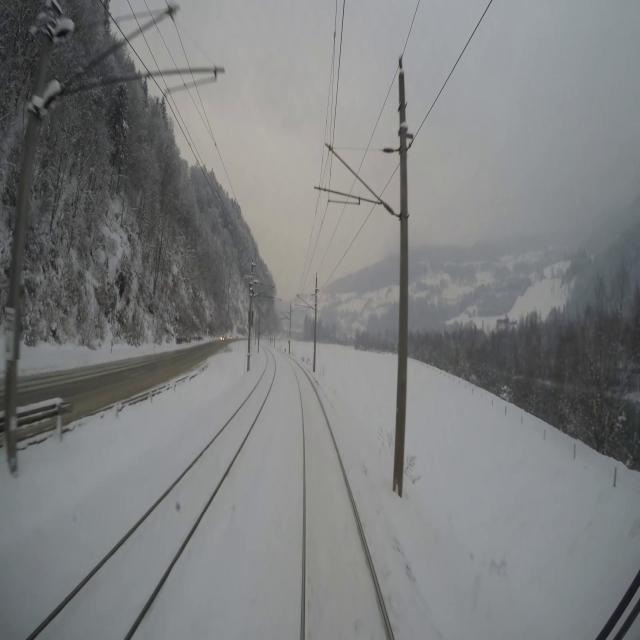rail-track: (34, 353, 273, 639), (292, 362, 389, 639)
